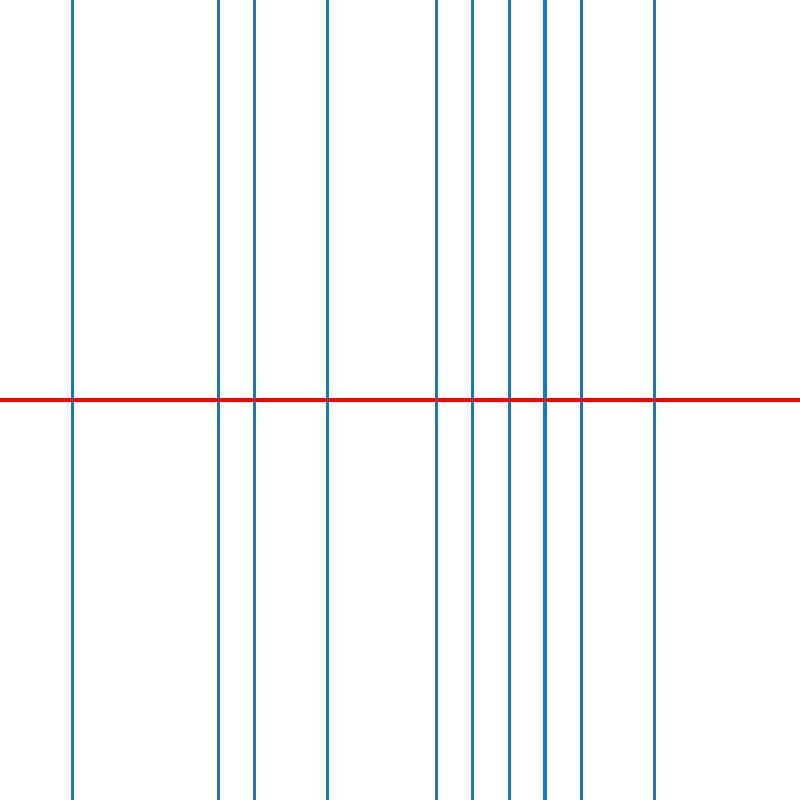root: (250, 396, 258, 404), (432, 396, 440, 404), (650, 396, 658, 404), (541, 396, 549, 404), (469, 396, 476, 404), (578, 396, 585, 404), (505, 396, 512, 404), (69, 396, 76, 404), (214, 396, 221, 404), (323, 396, 330, 404)
